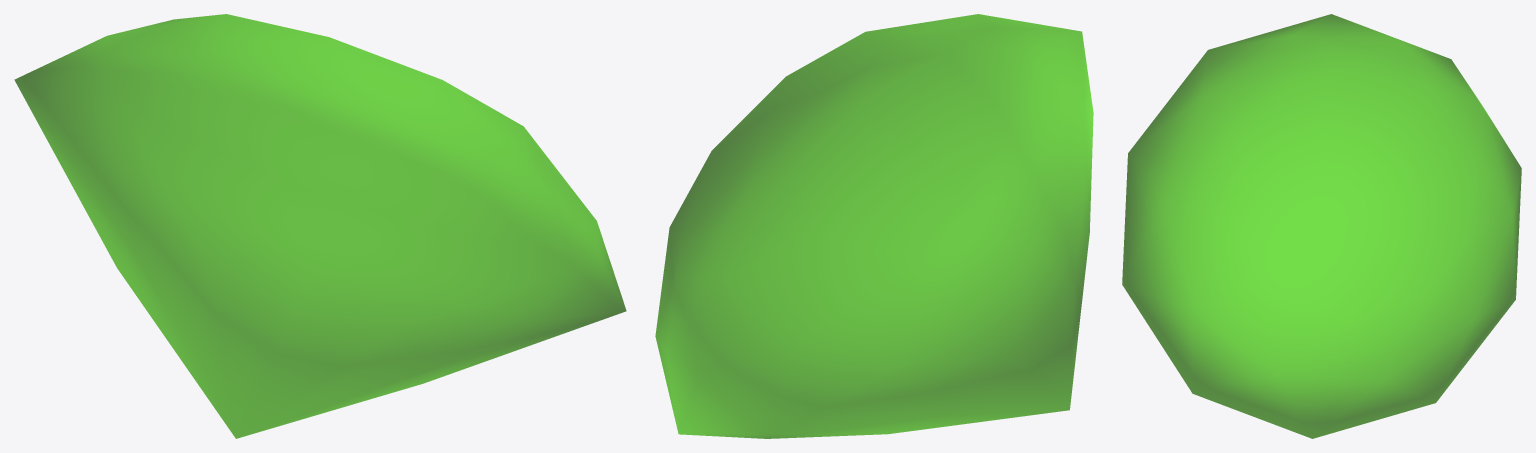
File: crystalGreen.fbx
3 renders of one model, left to right at view 1: azimuth 30°, elevation 25°; view 2: azimuth 150°, elevation 25°; view 3: azimuth 270°, elevation 25°, orthographic. The views are drawn at different scales.
Parts seen in each view (by area): view 1: Gem_002; view 2: Gem_002; view 3: Gem_002.
Boxes of the visible parts, box(x1,y1,x2,y2) form: Gem_002: box(14, 14, 626, 438); Gem_002: box(655, 14, 1093, 438); Gem_002: box(1122, 14, 1521, 438).
Size of the model in its own units: 1.54 by 1.23 by 1.56.
